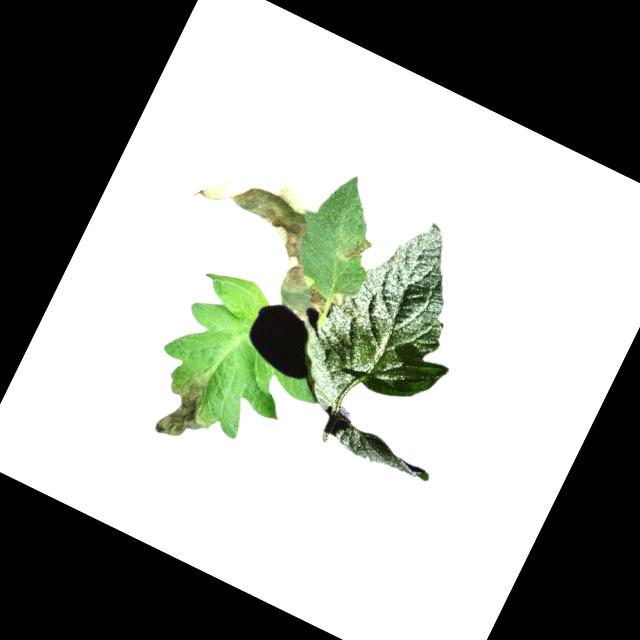Late_blight: (176, 148, 346, 301), (146, 364, 226, 451), (338, 233, 370, 269), (301, 285, 331, 313)
healthy: (288, 198, 504, 453)
